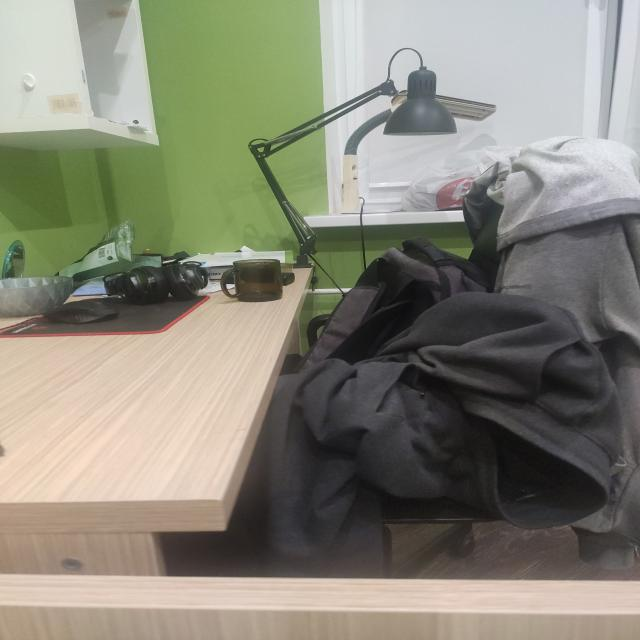cups: (220, 259, 284, 302)
